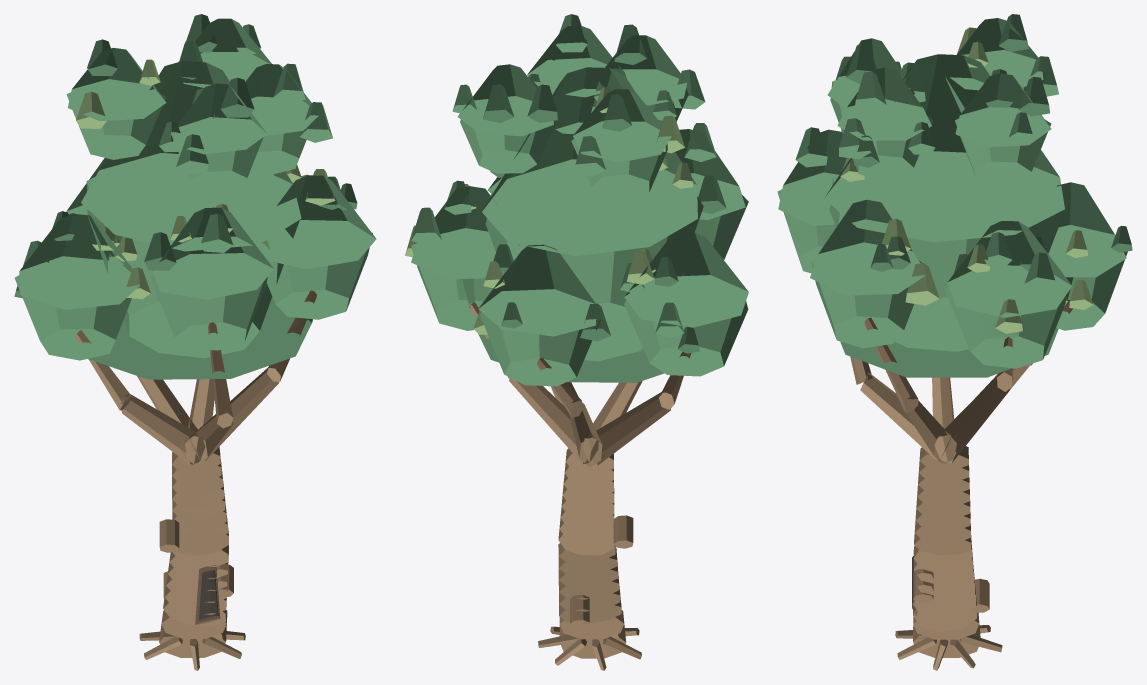
File: oak_old.glb
The picture shows the model from 3 angles, left to right: view 1: azimuth 30°, elevation 25°; view 2: azimuth 150°, elevation 25°; view 3: azimuth 270°, elevation 25°; orthographic projection. The views are drawn at different scales.
Visible parts, largest first — view 1: Crown#2, Crown#8, Crown.Under, Crown#4, Crown#6, Crown#5, Crown#7, Crown, Crown#3, Crown#16, Crown#18, Crown#14 (+36 smaller); view 2: Crown#2, Crown#8, Crown#10, Crown, Crown#12, Crown#9, Crown#7, Crown#16, Crown#20, Crown#18, Crown#19, Crown#14 (+44 smaller); view 3: Crown#2, Crown#12, Crown#4, Crown, Crown#11, Crown#3, Crown#10, Crown#20, Crown.Under, Crown#14, Crown#6, Crown#19 (+42 smaller).
Part boxes in pixels (<box>): Crown#2: <box>81,61,301,251</box>; Crown#8: <box>19,214,139,309</box>; Crown.Under: <box>88,297,312,379</box>; Crown#4: <box>256,175,376,269</box>; Crown#6: <box>153,207,273,299</box>; Crown#5: <box>150,274,267,350</box>; Crown#7: <box>14,275,131,360</box>; Crown: <box>86,176,304,358</box>; Crown#3: <box>266,232,372,319</box>; Crown#16: <box>67,48,166,121</box>; Crown#18: <box>172,83,266,154</box>; Crown#14: <box>225,64,318,136</box>; Crown#2: <box>482,67,697,256</box>; Crown#8: <box>624,232,748,327</box>; Crown#10: <box>478,244,596,336</box>; Crown: <box>485,188,703,361</box>; Crown#12: <box>411,186,526,279</box>; Crown#9: <box>480,312,600,386</box>; Crown#7: <box>624,300,748,376</box>; Crown#16: <box>573,89,671,162</box>; Crown#20: <box>458,64,553,136</box>; Crown#18: <box>605,35,686,105</box>; Crown#19: <box>460,119,556,173</box>; Crown#14: <box>527,25,620,97</box>; Crown#2: <box>824,54,1064,242</box>; Crown#12: <box>947,221,1071,317</box>; Crown#4: <box>810,199,925,295</box>; Crown: <box>829,176,1069,351</box>; Crown#11: <box>944,279,1067,368</box>; Crown#3: <box>811,258,922,348</box>; Crown#10: <box>1029,182,1126,277</box>; Crown#20: <box>955,73,1051,147</box>; Crown.Under: <box>840,277,1073,377</box>; Crown#14: <box>837,67,931,140</box>; Crown#6: <box>778,129,846,225</box>; Crown#19: <box>955,118,1051,186</box>.
Bounding box in the file's own units: 9 × 16.1 × 8.57.
